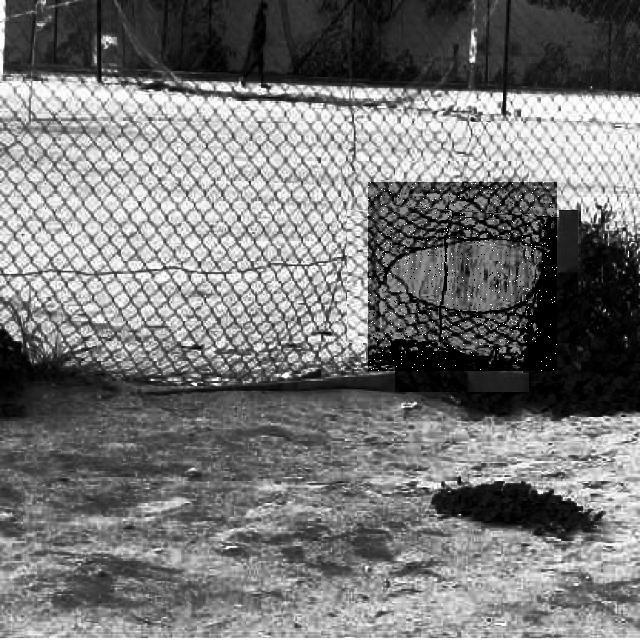anomaly-fence: (368, 182, 557, 371)
